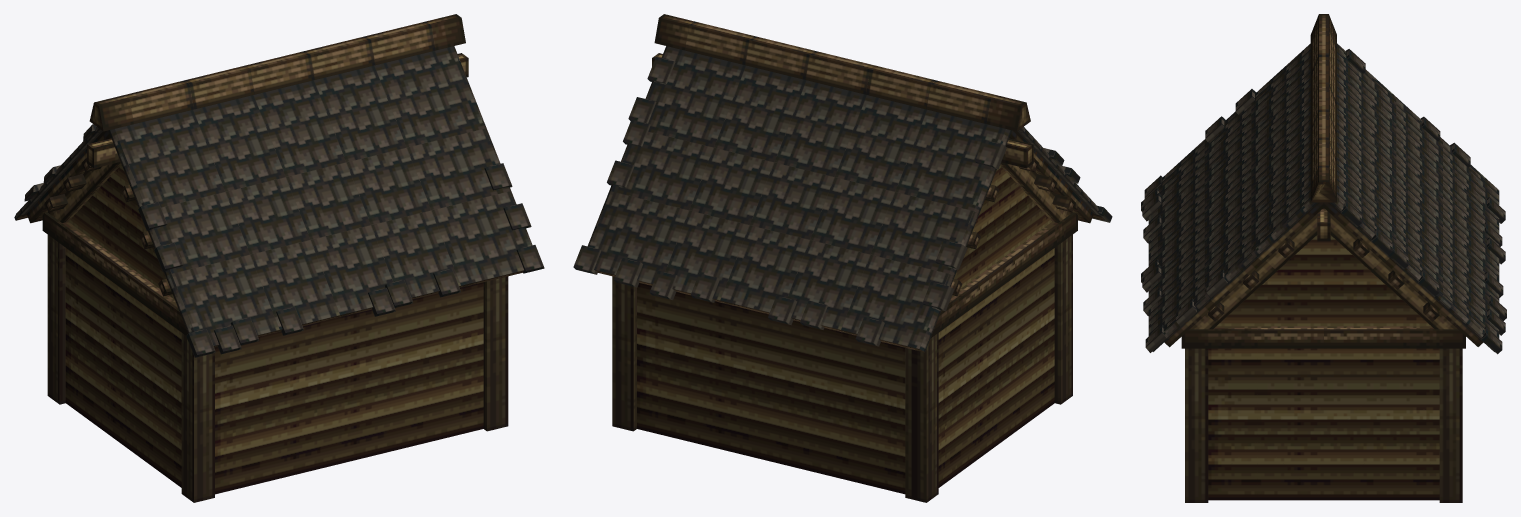
The model's file is EnvBdgMD_WoodHouse_A_Outdoor_House_B.FBX.
The picture shows the model from 3 angles, left to right: view 1: azimuth 30°, elevation 25°; view 2: azimuth 150°, elevation 25°; view 3: azimuth 270°, elevation 25°; orthographic projection. The views are drawn at different scales.
Visible parts, largest first — view 1: EnvBdgMD_WoodHouse_A_Outdoor_House_B; view 2: EnvBdgMD_WoodHouse_A_Outdoor_House_B; view 3: EnvBdgMD_WoodHouse_A_Outdoor_House_B.
Part boxes in pixels (x1,y1,x2,y2): EnvBdgMD_WoodHouse_A_Outdoor_House_B: (14, 14, 544, 502); EnvBdgMD_WoodHouse_A_Outdoor_House_B: (573, 14, 1112, 502); EnvBdgMD_WoodHouse_A_Outdoor_House_B: (1141, 14, 1506, 502).
Size of the model in its own units: 620 by 555 by 553.
1 material, 1 textured.
